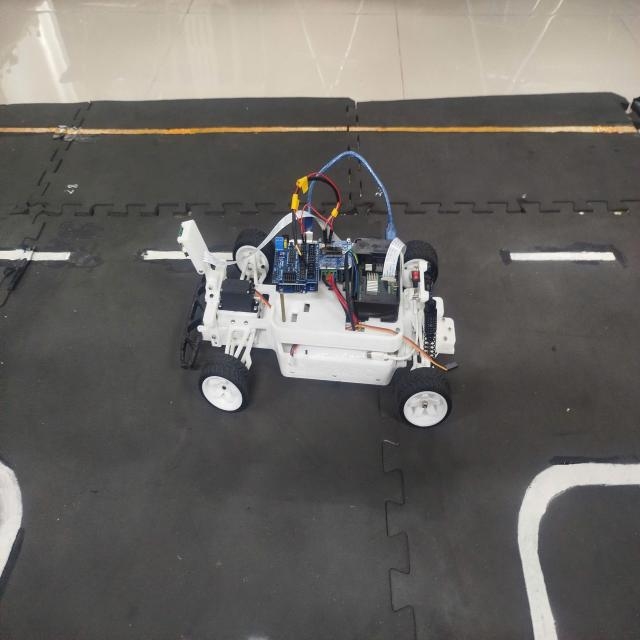SiCo-CAR: (173, 149, 460, 429)
